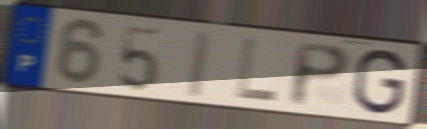5: (116, 23, 163, 93)
6: (52, 16, 110, 90)
G: (351, 48, 409, 117)
I: (183, 28, 216, 101)
L: (233, 35, 280, 104)
P: (288, 40, 354, 110)
